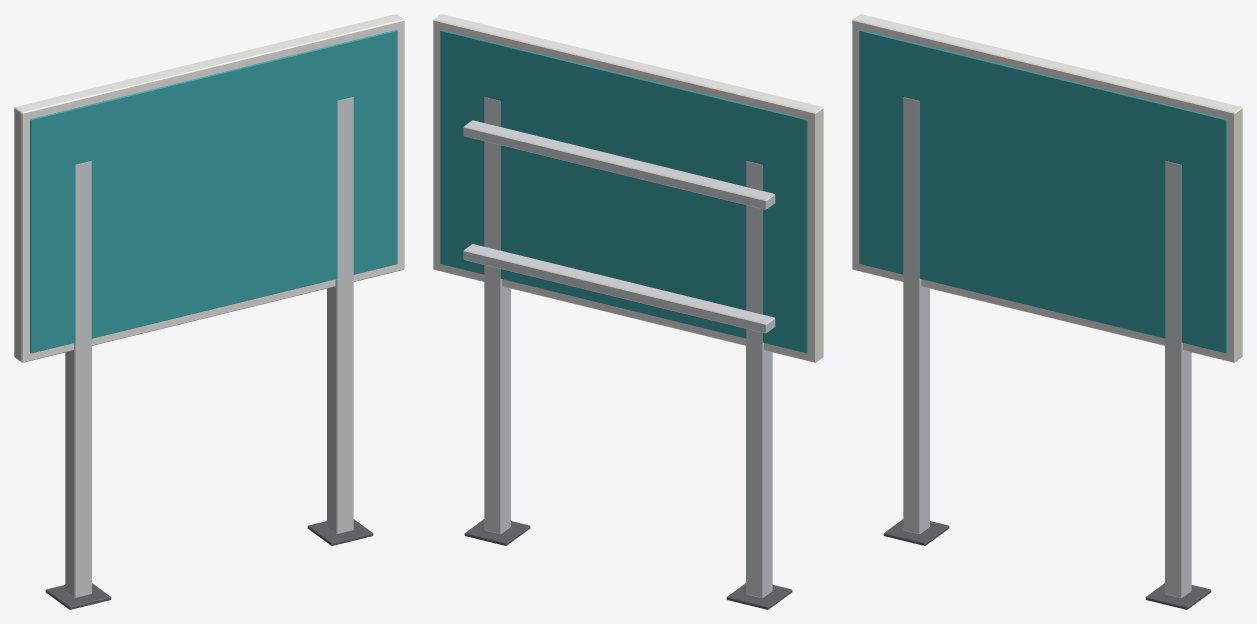
The model's file is motorway-services-and-truck-park-services-sign-c0f3c987__35971.glb.
3 renders of one model, left to right at view 1: azimuth 30°, elevation 25°; view 2: azimuth 150°, elevation 25°; view 3: azimuth 330°, elevation 25°, orthographic.
Parts seen in each view (by area): view 1: services-sign; view 2: services-sign; view 3: services-sign.
Part boxes in pixels (box(x1,y1,x2,y2)): services-sign: box(14, 14, 404, 609); services-sign: box(433, 14, 823, 609); services-sign: box(852, 14, 1242, 609).
Size of the model in its own units: 2.4 by 3 by 0.282.
